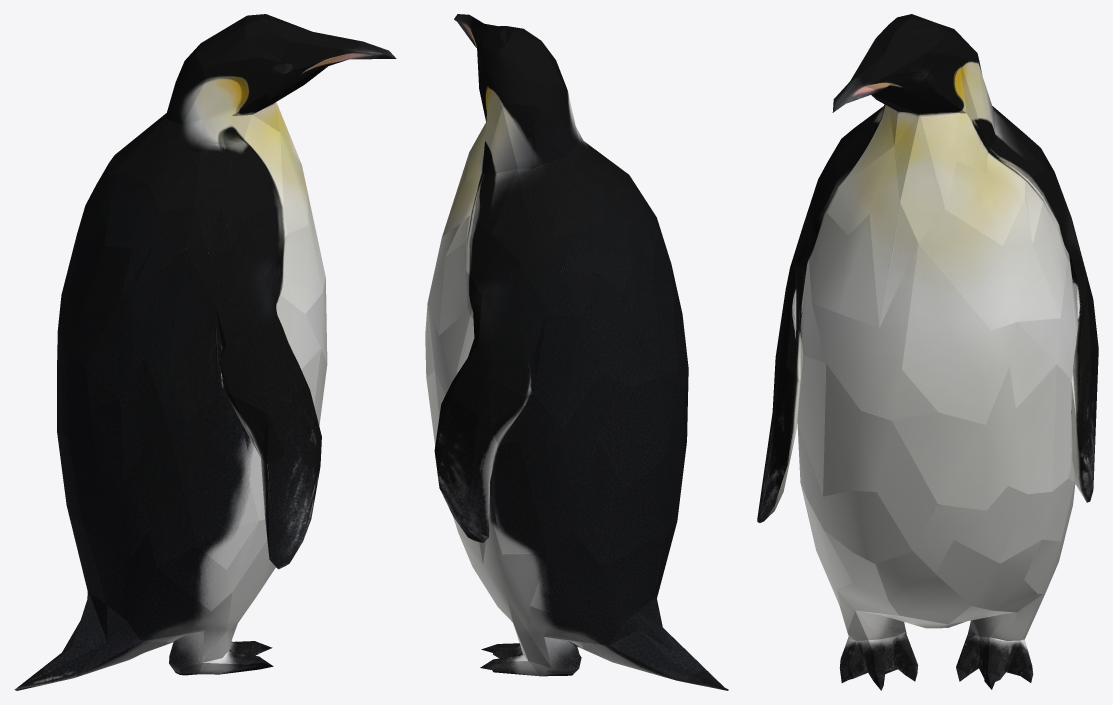
The model's file is pinguino.fbx.
3 renders of one model, left to right at view 1: azimuth 30°, elevation 25°; view 2: azimuth 150°, elevation 25°; view 3: azimuth 270°, elevation 25°, orthographic. The views are drawn at different scales.
Visible parts, largest first — view 1: pinguino; view 2: pinguino; view 3: pinguino.
Part boxes in pixels (box(x1,y1,x2,y2)): pinguino: box(14, 14, 396, 690); pinguino: box(425, 14, 728, 690); pinguino: box(757, 14, 1098, 690).
Size of the model in its own units: 0.5619 by 1 by 0.4567.
Materials: 1 (1 with a texture image).
